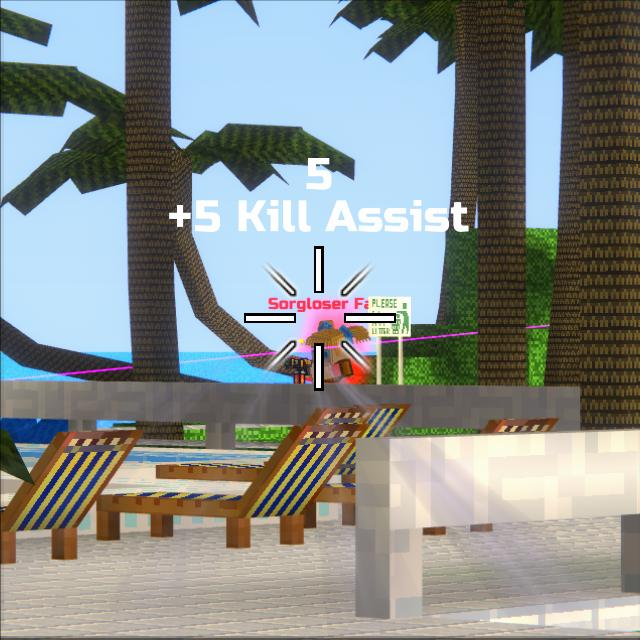Enemy: (292, 321, 353, 384)
